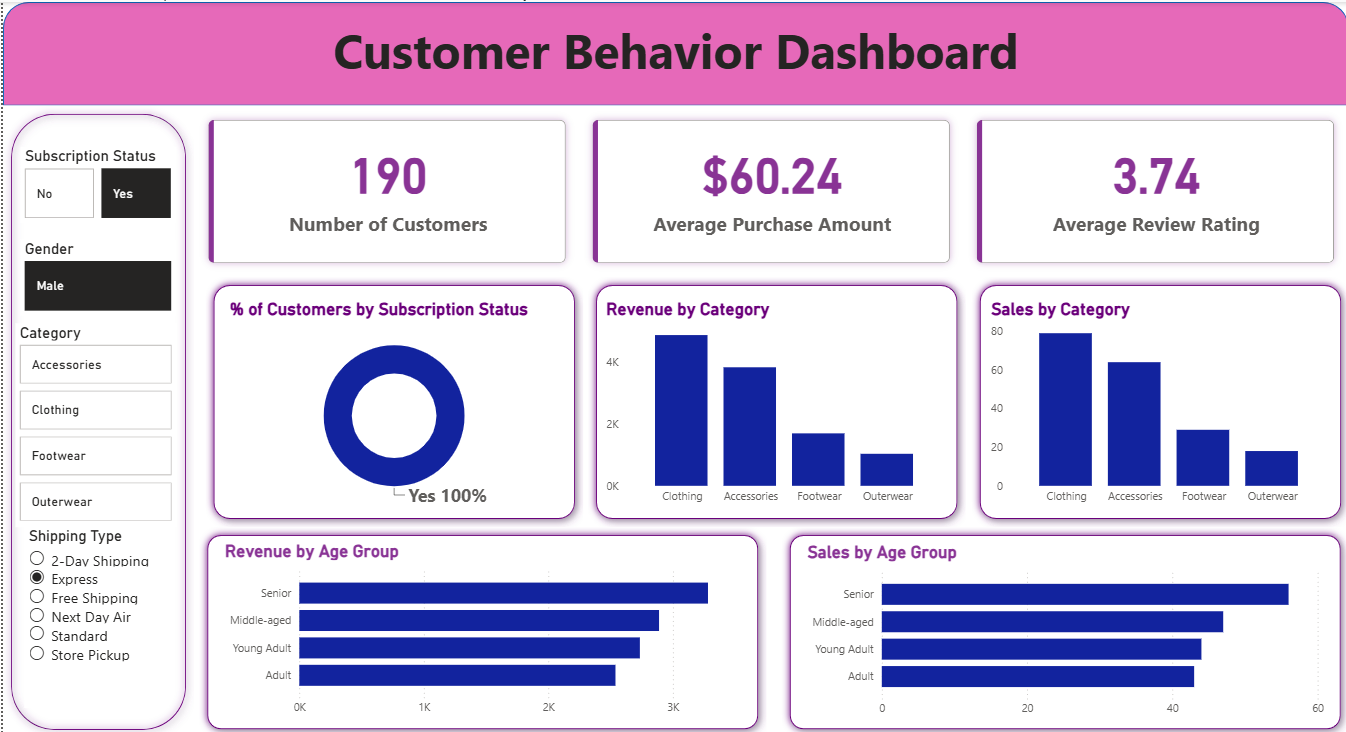

The page's visual inventory and layout, read from the dashboard file:
{"tool":"powerbi","page":{"name":"Page 1","canvas":[1500,820],"ordinal":0},"visuals":[{"type":"cardVisual","fields":{"Data":["public customer.Number of Customers","public customer.Average Purchase Amount","public customer.Average Review Rating"]},"box":[212.9,115.3,1286.5,191.6],"z":2000},{"type":"shape","box":[218.3,585.6,631.7,234.2],"z":2500,"group":"g1"},{"type":"shape","box":[0,0,1499.4,115.3],"z":3000},{"type":"textbox","box":[0,12.4,1499.4,102.9],"z":4000},{"type":"shape","box":[225.4,307,420.5,278.6],"z":5000},{"type":"donutChart","title":"% of Customers by Subscription Status","fields":{"Category":["public customer.subscription_status"],"Y":["CountNonNull(public customer.customer_id)"]},"box":[248.4,331.8,376.2,237.8],"z":6000},{"type":"shape","box":[1078.9,307,420.5,278.6],"z":7000},{"type":"shape","box":[652.1,307,420.5,278.6],"z":8000},{"type":"clusteredColumnChart","title":"Revenue by Category","fields":{"Category":["public customer.category"],"Y":["Sum(public customer.purchase_amount)"]},"box":[667.2,331.8,385.1,237.8],"z":9000},{"type":"clusteredColumnChart","title":"Sales by Category","fields":{"Category":["public customer.category"],"Y":["CountNonNull(public customer.customer_id)"]},"box":[1096.6,331.8,385.1,237.8],"z":10000},{"type":"shape","box":[0,115.3,212.9,704.5],"z":11000},{"type":"advancedSlicerVisual","fields":{"Values":["public customer.subscription_status"]},"box":[19.5,161.5,173.9,85.2],"z":12000},{"type":"advancedSlicerVisual","fields":{"Values":["public customer.gender"]},"box":[19.5,264.4,173.9,85.2],"z":13000},{"type":"advancedSlicerVisual","fields":{"Values":["public customer.category"]},"box":[13.9,357.9,179.7,227],"z":14000},{"type":"listSlicer","fields":{"Values":["public customer.shipping_type"]},"box":[23.7,584.9,161.5,201.9],"z":15000},{"type":"shape","box":[867.7,585.6,631.7,234.2],"z":16000},{"type":"clusteredBarChart","title":"Sales by Age Group","fields":{"Category":["public customer.age_group"],"Y":["CountNonNull(public customer.customer_id)"]},"box":[890.8,601.5,585.6,204.1],"z":17000},{"type":"clusteredBarChart","title":"Revenue by Age Group","fields":{"Category":["public customer.age_group"],"Y":["Sum(public customer.purchase_amount)"]},"box":[241.4,601.6,585.6,204.1],"z":17500,"group":"g1"},{"type":"group","id":"g1","title":"Group 1","box":[218.3,585.6,631.7,234.2],"z":17501}]}

Visuals, with their boxes in screenshot pixels (x1, y1, x2, y2), scaled from the page's 1500x820 canvas onto the 1346x732 screenshot:
cardVisual - public customer.Number of Customers x public customer.Average Purchase Amount: [191,103,1345,274]
shape: [196,523,763,731]
shape: [0,0,1345,103]
textbox: [0,11,1345,103]
shape: [202,274,580,523]
"% of Customers by Subscription Status" donutChart: [223,296,560,508]
shape: [968,274,1345,523]
shape: [585,274,962,523]
"Revenue by Category" clusteredColumnChart: [599,296,944,508]
"Sales by Category" clusteredColumnChart: [984,296,1330,508]
shape: [0,103,191,731]
advancedSlicerVisual - public customer.subscription_status: [17,144,174,220]
advancedSlicerVisual - public customer.gender: [17,236,174,312]
advancedSlicerVisual - public customer.category: [12,319,174,522]
listSlicer - public customer.shipping_type: [21,522,166,702]
shape: [779,523,1345,731]
"Sales by Age Group" clusteredBarChart: [799,537,1325,719]
"Revenue by Age Group" clusteredBarChart: [217,537,742,719]
"Group 1" group: [196,523,763,731]
